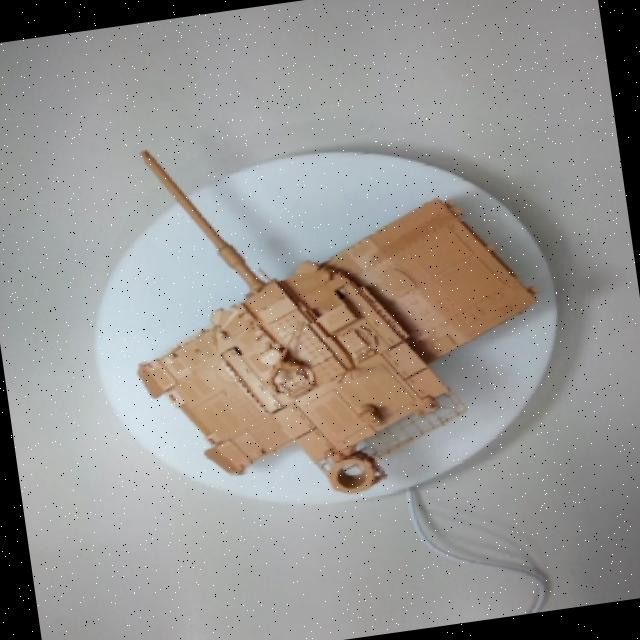korea tank: (68, 45, 554, 523)
